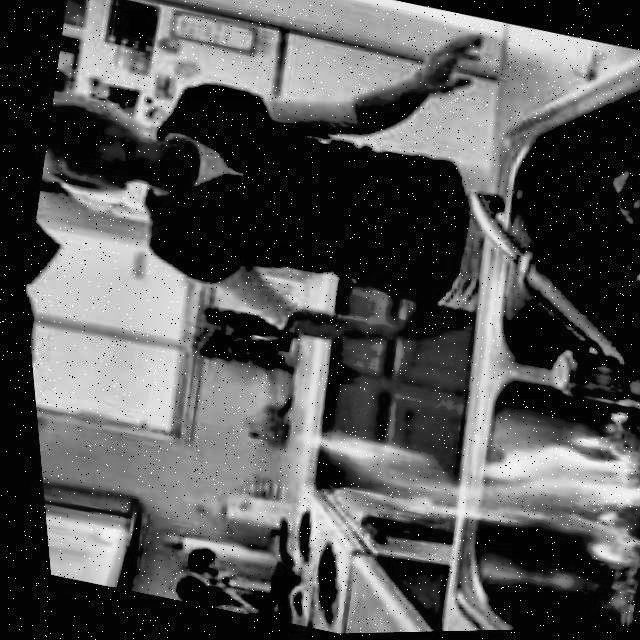Fire: (288, 374, 640, 575)
